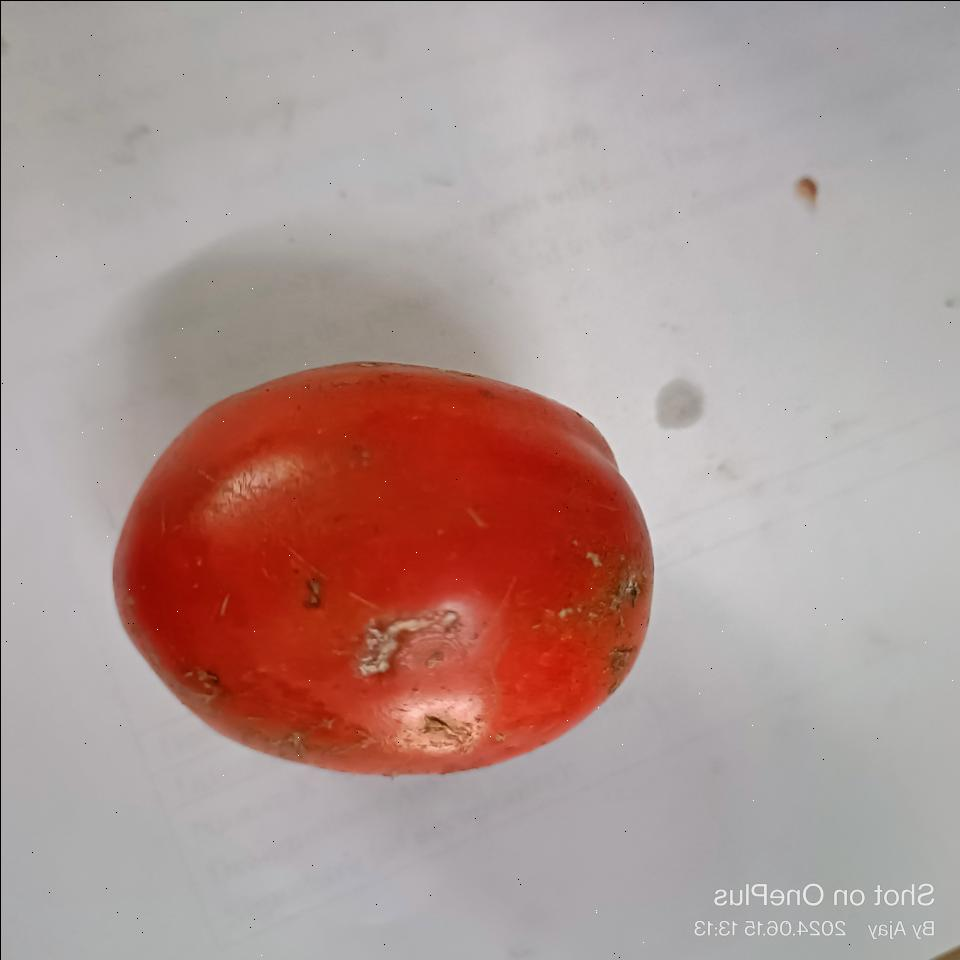Bacterial_Spot: (354, 596, 493, 674), (604, 553, 656, 609), (292, 571, 334, 621), (197, 654, 225, 694)
